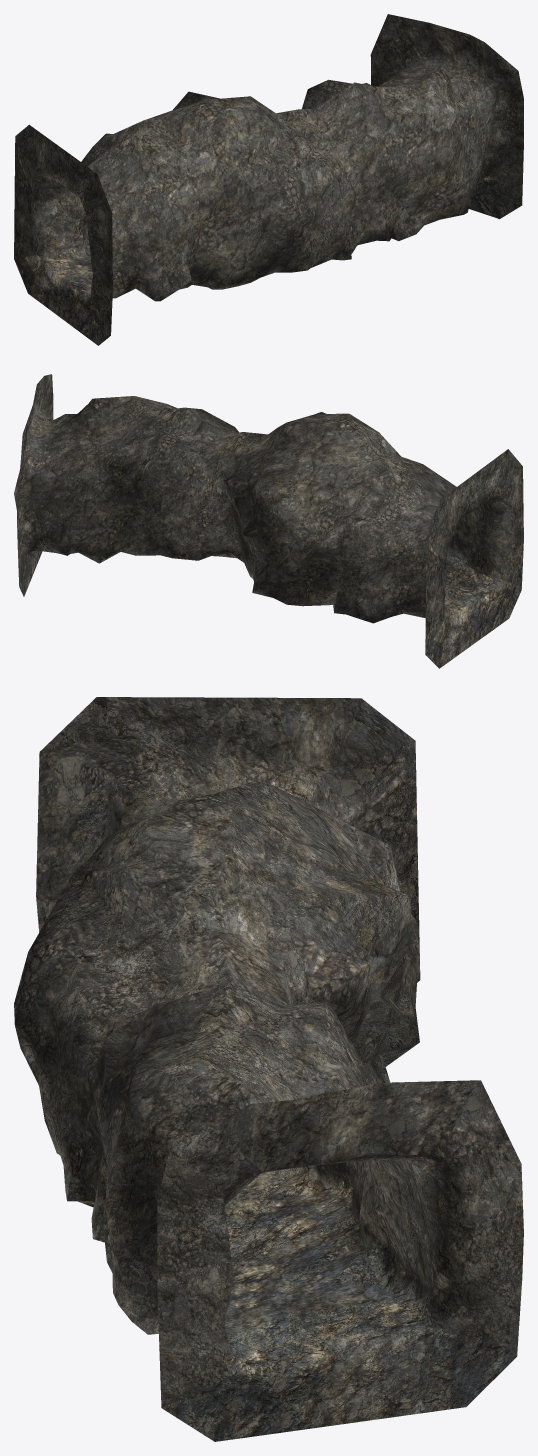
File: Cave5.fbx
3 views of the same model, one above another, from view 1: azimuth 30°, elevation 25°; view 2: azimuth 150°, elevation 25°; view 3: azimuth 270°, elevation 25° (orthographic). The views are drawn at different scales.
Visible parts, largest first — view 1: Cave5; view 2: Cave5; view 3: Cave5.
Part boxes in pixels (x1,y1,x2,y2): Cave5: [14, 14, 523, 345]; Cave5: [14, 374, 523, 668]; Cave5: [14, 697, 523, 1441].
Size of the model in its own units: 158 by 63.53 by 80.01.
